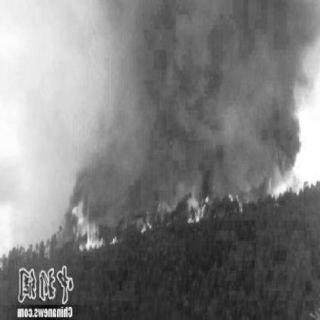Fire: (2, 151, 296, 258)
Smoke: (101, 0, 318, 142)
